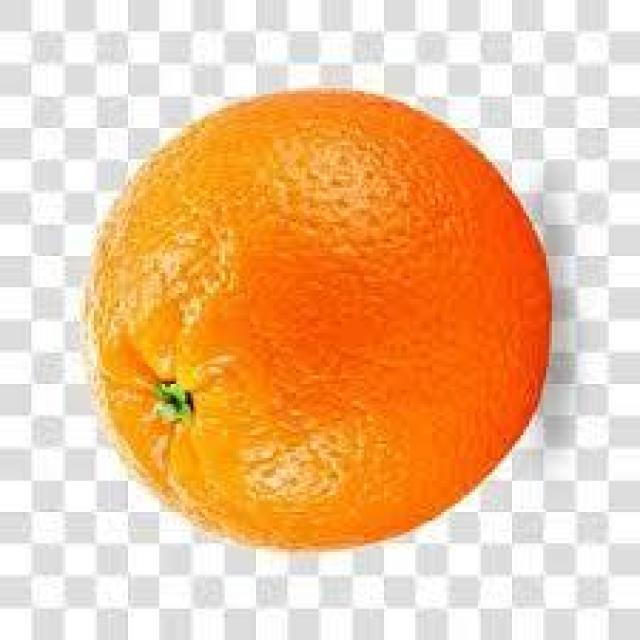Good_Orange: (80, 88, 549, 552)
